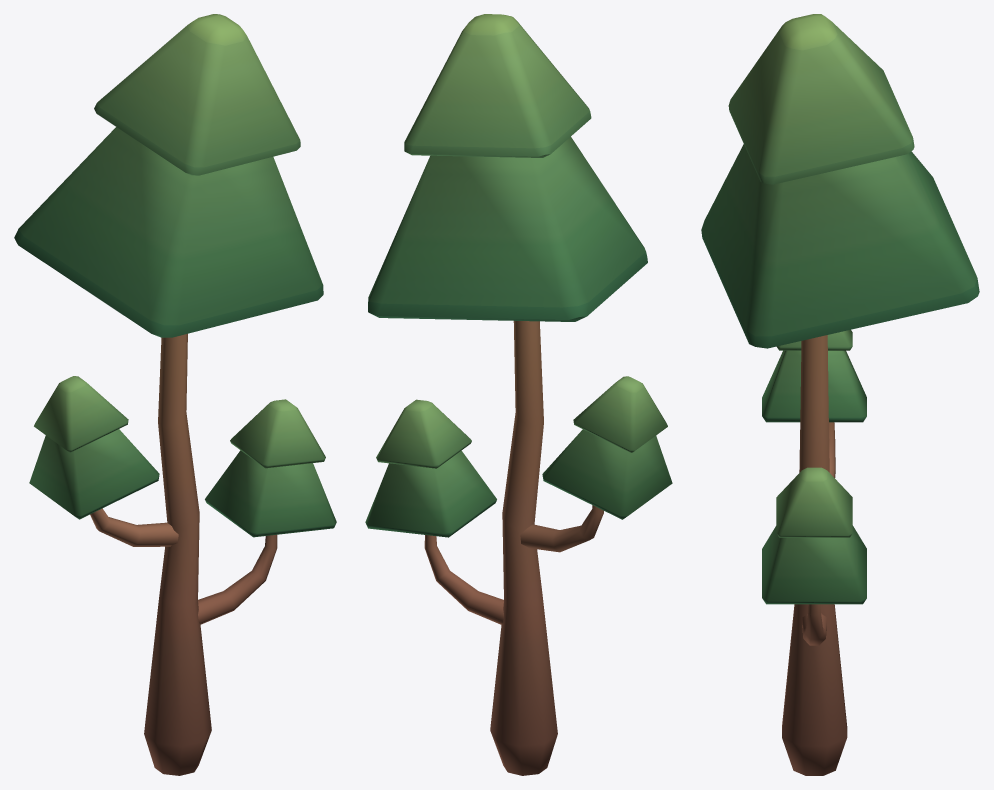
The model's file is tree_4_b-CIa1c_zx.glb.
The picture shows the model from 3 angles, left to right: view 1: azimuth 30°, elevation 25°; view 2: azimuth 150°, elevation 25°; view 3: azimuth 270°, elevation 25°; orthographic projection. The views are drawn at different scales.
Visible parts, largest first — view 1: Tree_4_B_Color1; view 2: Tree_4_B_Color1; view 3: Tree_4_B_Color1.
Part boxes in pixels (x1,y1,x2,y2): Tree_4_B_Color1: (14, 14, 336, 775); Tree_4_B_Color1: (365, 14, 672, 775); Tree_4_B_Color1: (701, 14, 979, 775).
Size of the model in its own units: 3.35 by 9.03 by 2.95.
1 material, 1 textured.
